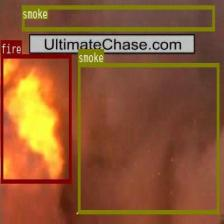fire: (0, 54, 71, 182)
smoke: (78, 62, 218, 212), (22, 4, 214, 31)
